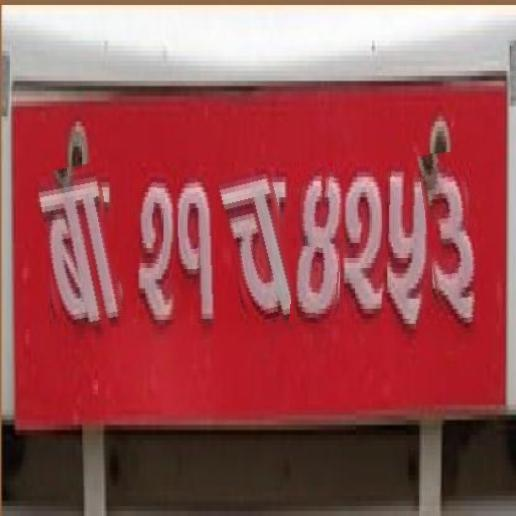1: (175, 162, 217, 339)
2: (341, 163, 387, 339), (133, 172, 178, 339)
3: (424, 151, 483, 351)
4: (293, 167, 346, 329)
5: (382, 152, 432, 345)
ba: (35, 165, 120, 336)
cha: (222, 166, 300, 340)
